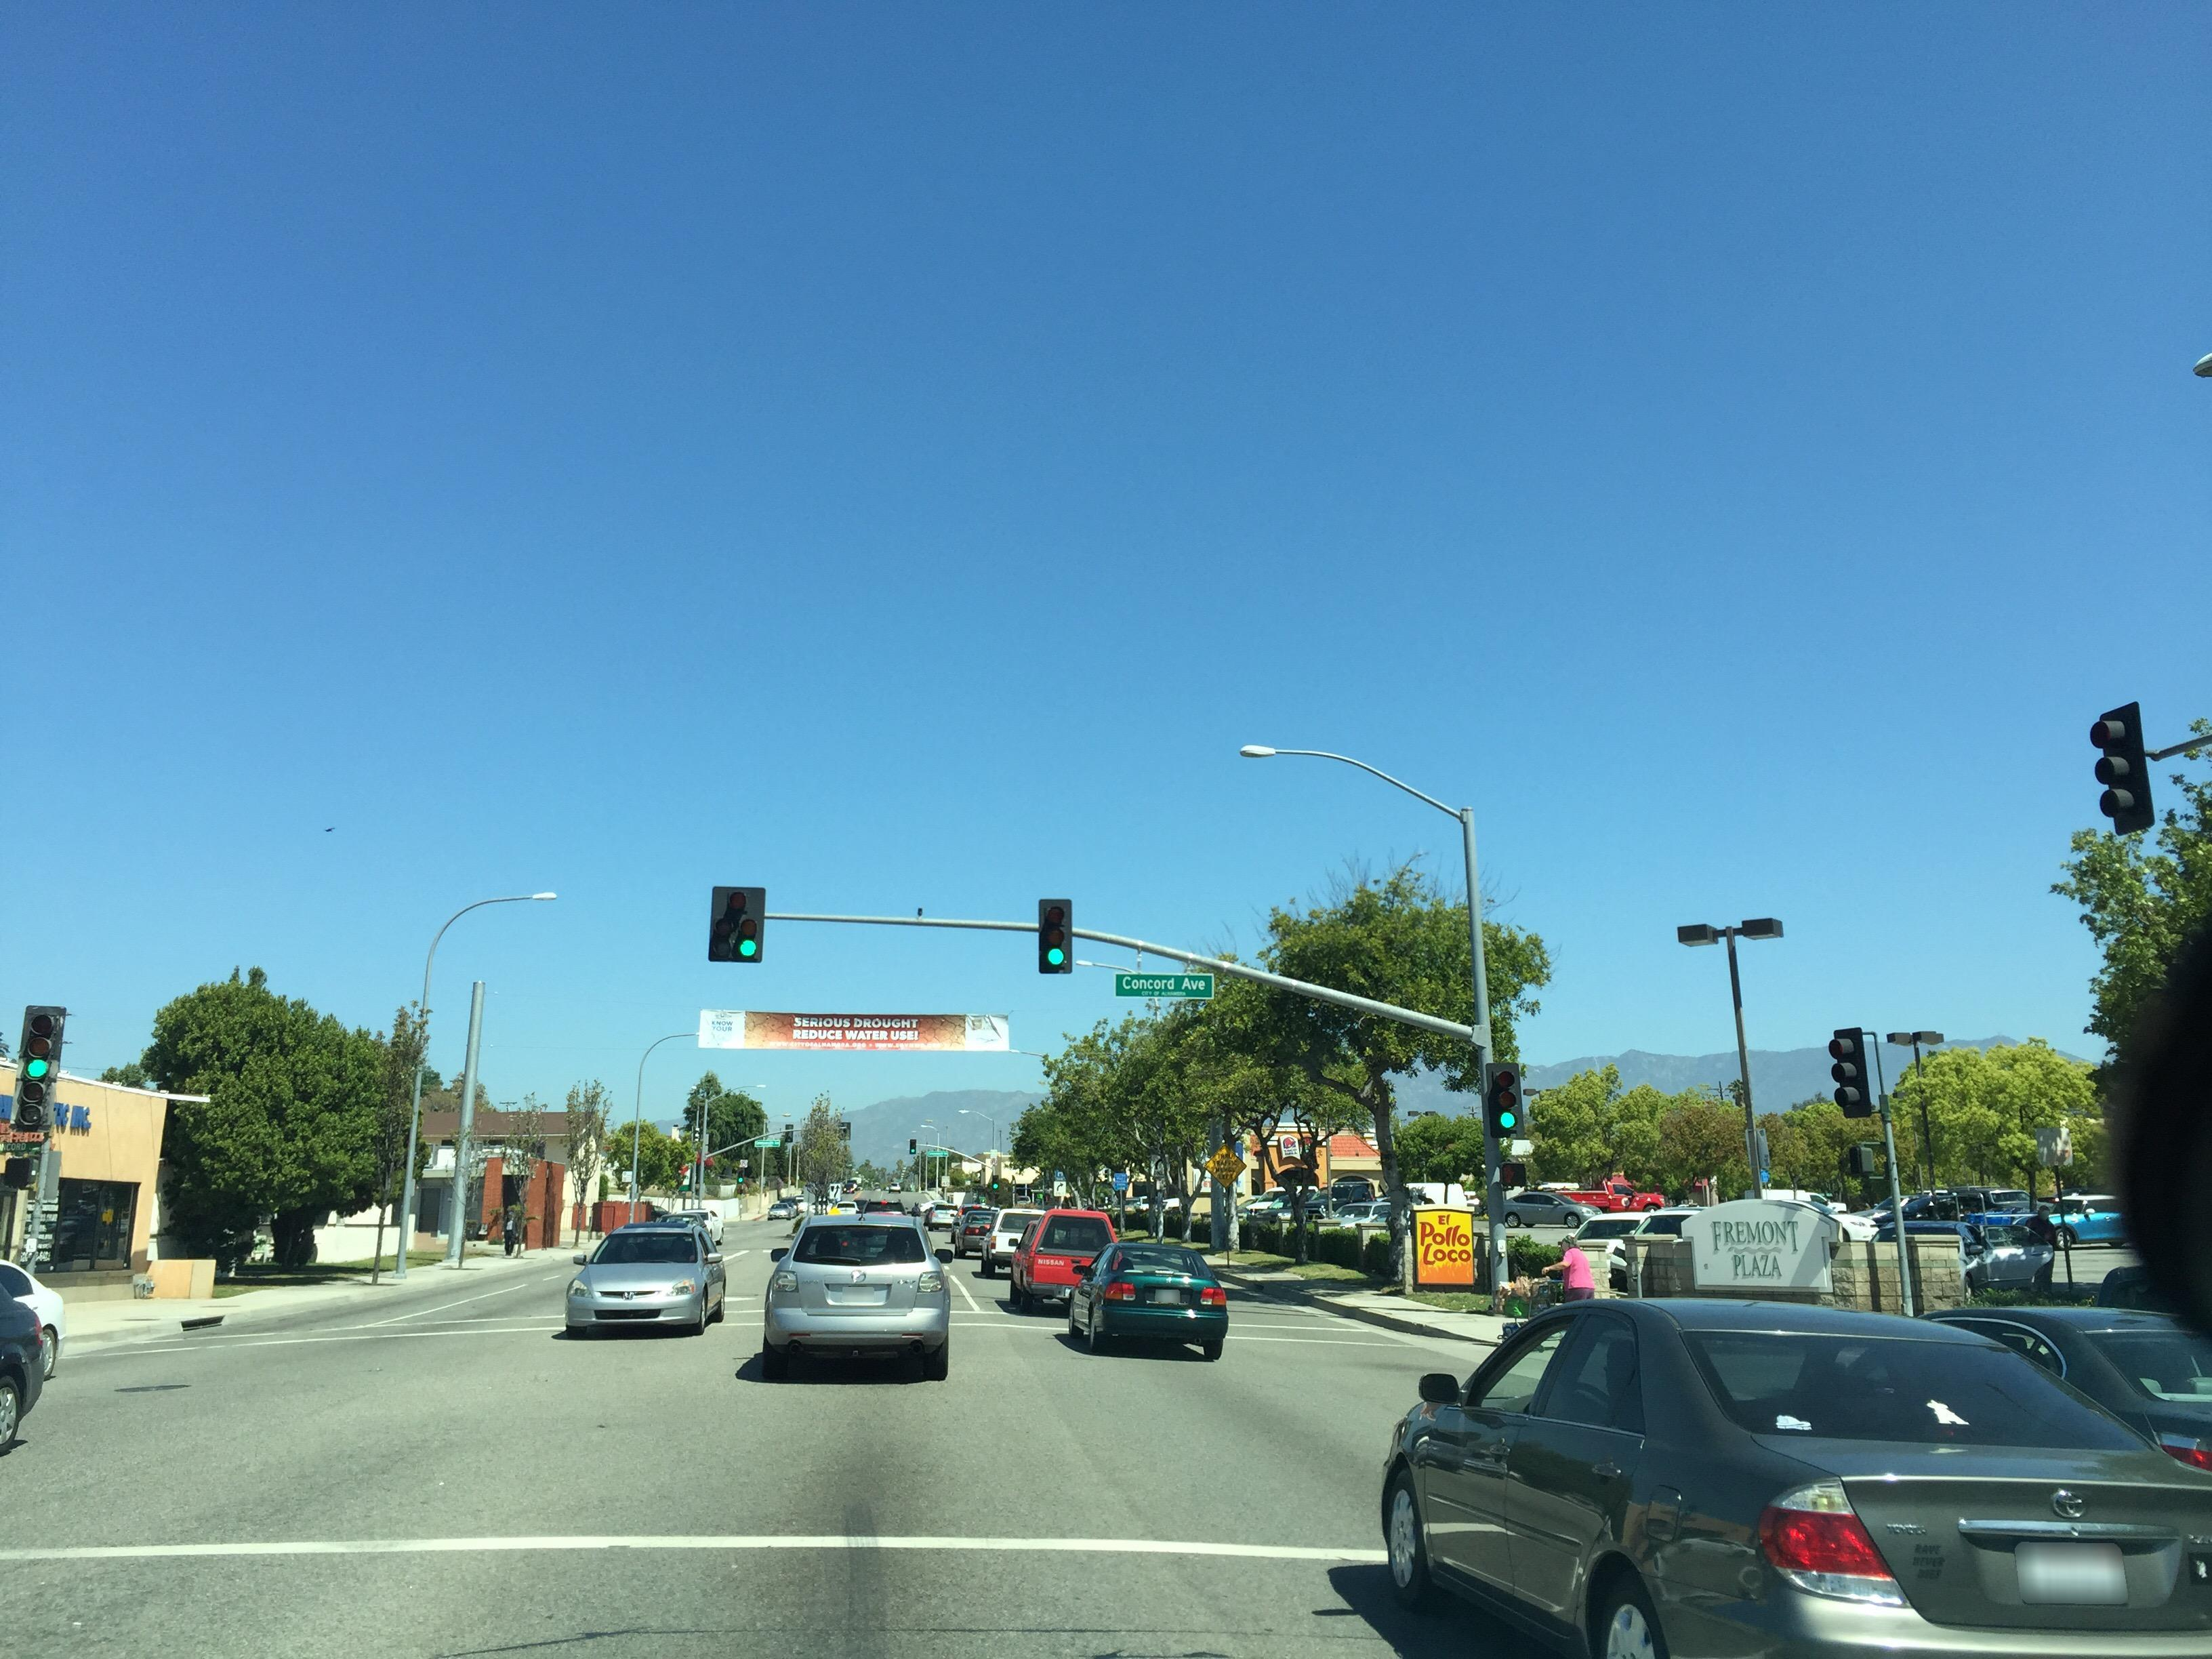vinyl banner: (688, 988, 1019, 1058)
